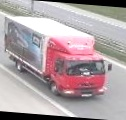truck: (0, 12, 117, 99)
